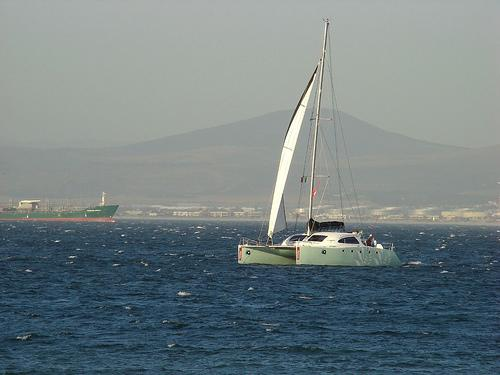Ship: (236, 18, 409, 270)
